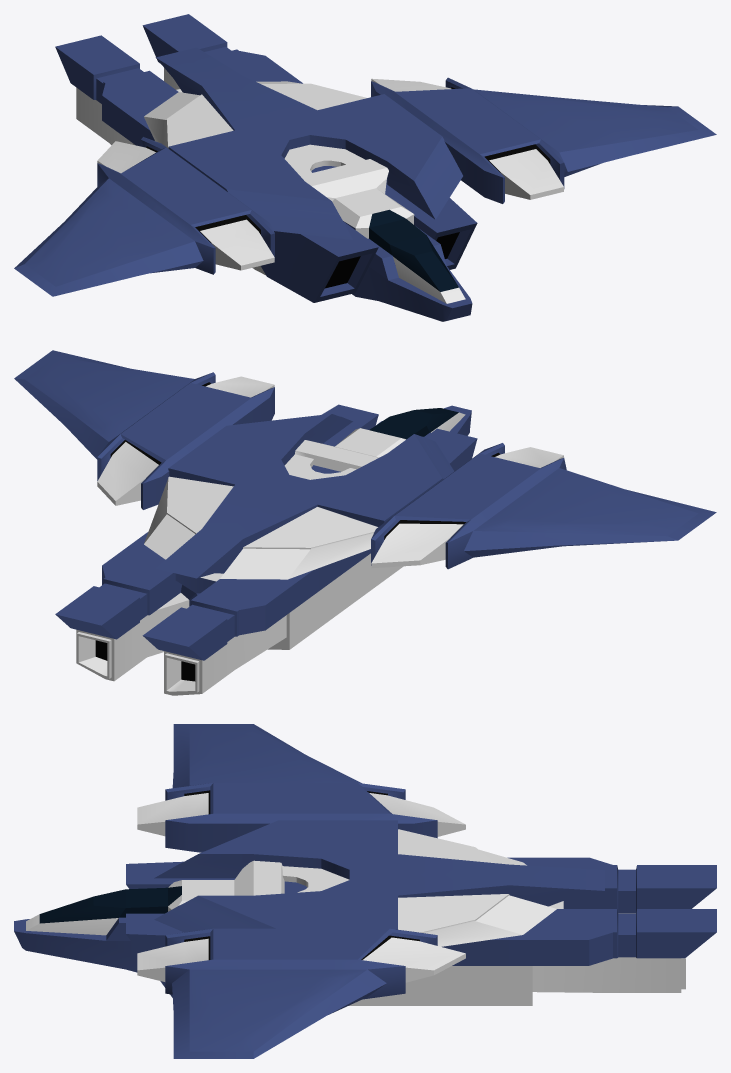
File: ArmoredShip.fbx
3 views of the same model, one above another, from view 1: azimuth 30°, elevation 25°; view 2: azimuth 150°, elevation 25°; view 3: azimuth 270°, elevation 25° (orthographic). The views are drawn at different scales.
Parts seen in each view (by area): view 1: Wings, TopArmor, MainBody, Cockpit, BottomArmor; view 2: Wings, TopArmor, MainBody, BottomArmor, Cockpit; view 3: Wings, TopArmor, MainBody, Cockpit, BottomArmor.
Boxes of the visible parts, x1,y1,x2,y2 form: Wings: (14, 77, 716, 296); TopArmor: (144, 47, 462, 239); MainBody: (55, 14, 477, 302); Cockpit: (300, 159, 472, 321); BottomArmor: (76, 68, 265, 275); Wings: (14, 350, 716, 569); TopArmor: (144, 413, 454, 579); MainBody: (55, 404, 477, 660); BottomArmor: (76, 553, 403, 695); Cockpit: (295, 405, 471, 473); Wings: (137, 724, 465, 1058); TopArmor: (154, 820, 604, 946); MainBody: (126, 857, 716, 997); Cockpit: (14, 860, 307, 972); BottomArmor: (349, 901, 685, 1005).
Bounding box in the file's own units: 496 × 74.39 × 440.
